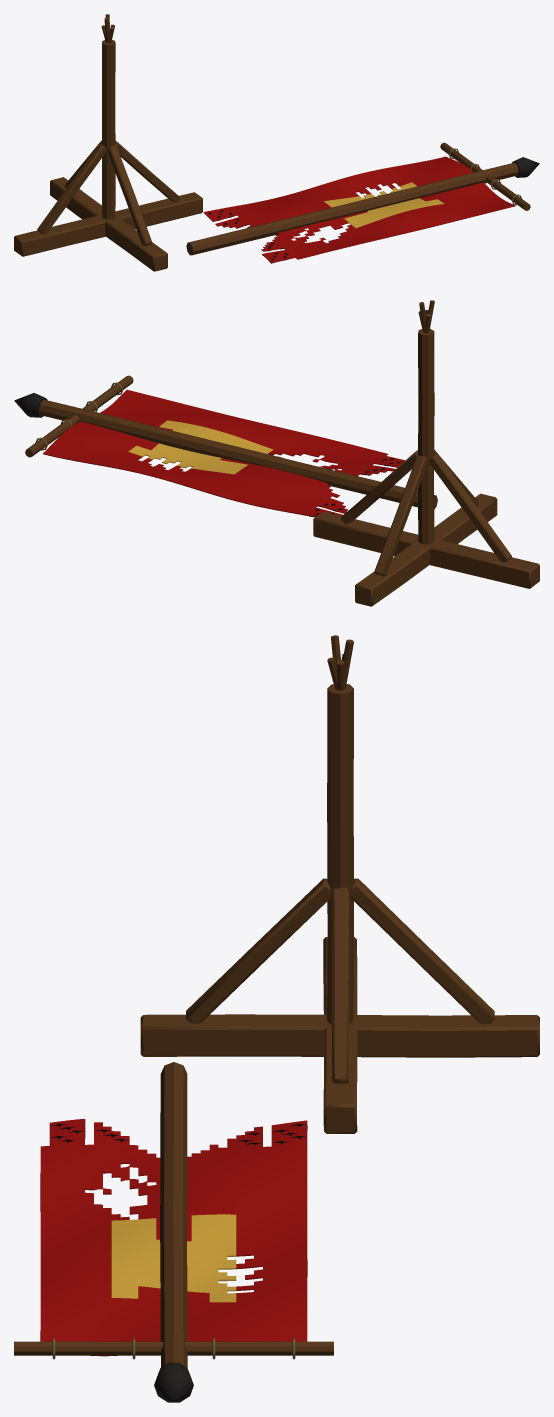
Rendered from banner_rot_kaputt.glb.
3 renders of one model, top to bottom at view 1: azimuth 30°, elevation 25°; view 2: azimuth 150°, elevation 25°; view 3: azimuth 270°, elevation 25°, orthographic. The views are drawn at different scales.
Parts seen in each view (by area): view 1: banner_rot_kaputt; view 2: banner_rot_kaputt; view 3: banner_rot_kaputt.
Part boxes in pixels (bbox=[...]): banner_rot_kaputt: bbox=[14, 14, 539, 271]; banner_rot_kaputt: bbox=[14, 300, 539, 606]; banner_rot_kaputt: bbox=[14, 635, 539, 1402].
Bounding box in the file's own units: 3.16 × 1.38 × 1.58.
